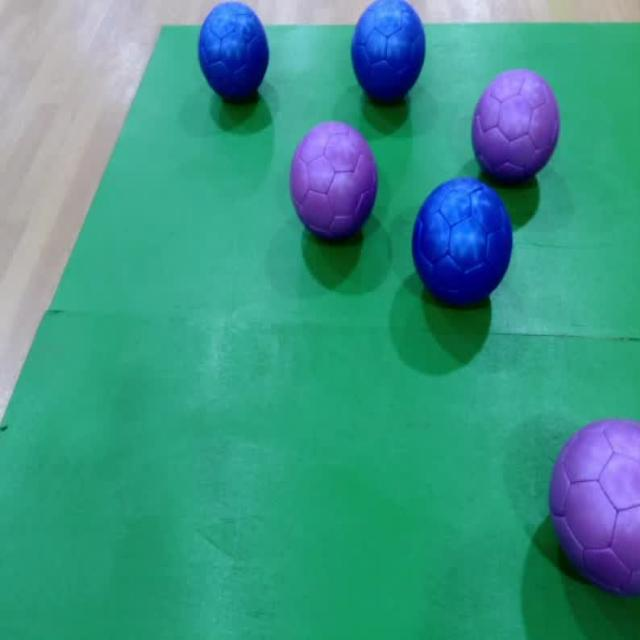blue_ball: (409, 176, 514, 312), (351, 0, 426, 106), (197, 3, 271, 102)
purple_ball: (545, 416, 640, 602), (288, 123, 378, 239), (472, 67, 560, 182)
